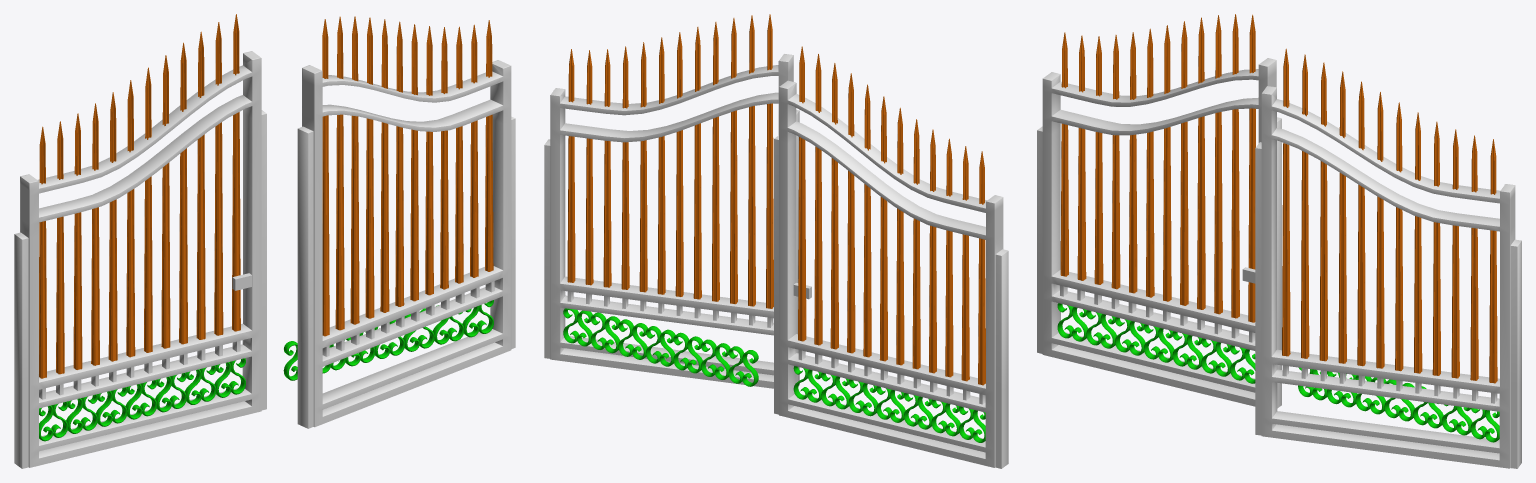
Rendered from house gaete.fbx.
3 renders of one model, left to right at view 1: azimuth 30°, elevation 25°; view 2: azimuth 150°, elevation 25°; view 3: azimuth 330°, elevation 25°, orthographic. The views are drawn at different scales.
Visible parts, largest first — view 1: Cube.019, Cube.017, Spiral; view 2: Cube.019, Cube.017, Spiral; view 3: Cube.019, Cube.017, Spiral.
Part boxes in pixels (bbox=[...]): Cube.019: bbox=[14, 51, 515, 468]; Cube.017: bbox=[39, 14, 493, 378]; Spiral: bbox=[39, 300, 493, 441]; Cube.019: bbox=[544, 54, 1008, 468]; Cube.017: bbox=[567, 14, 985, 385]; Spiral: bbox=[563, 308, 985, 442]; Cube.019: bbox=[1037, 58, 1521, 468]; Cube.017: bbox=[1060, 14, 1497, 383]; Spiral: bbox=[1057, 303, 1499, 442].
Bounding box in the file's own units: 614 × 473 × 84.04.
